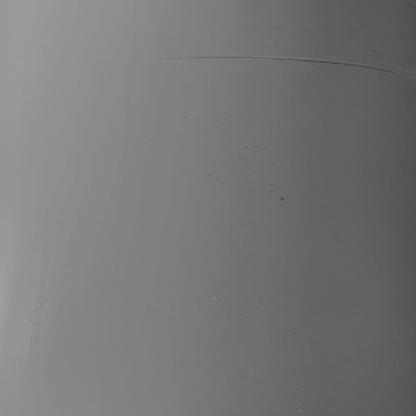sunshang: (156, 53, 416, 82)
